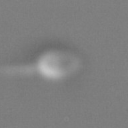normal: (1, 59, 38, 80)
